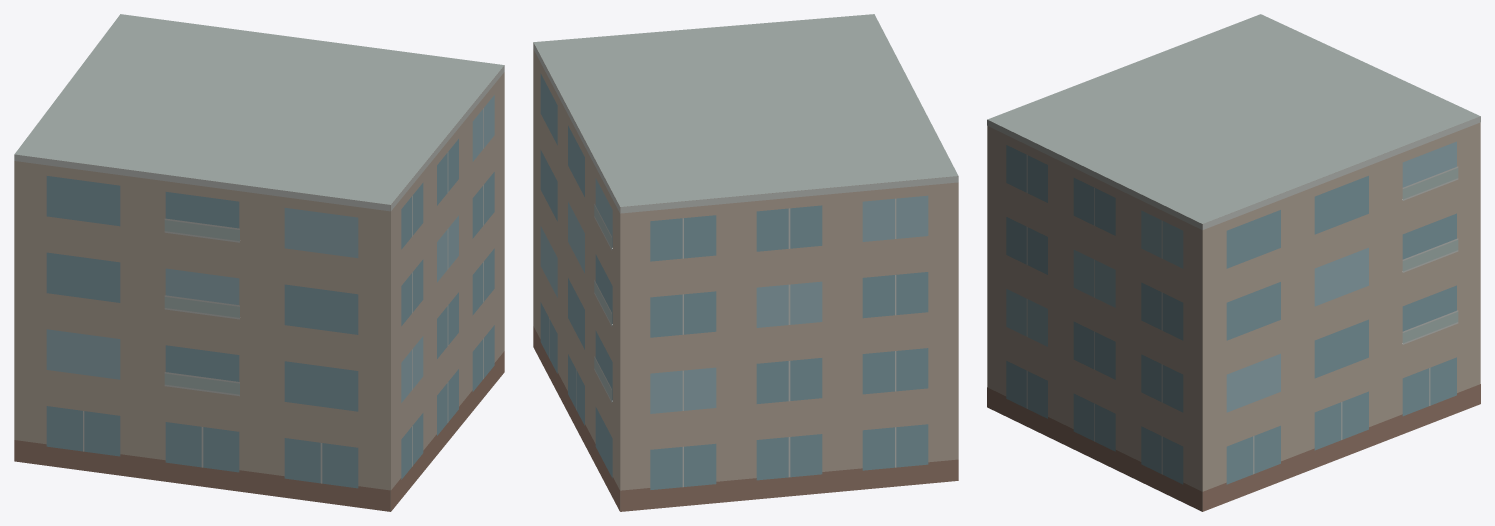
The model's file is survey-upis-32724242.glb.
The picture shows the model from 3 angles, left to right: view 1: azimuth 30°, elevation 25°; view 2: azimuth 150°, elevation 25°; view 3: azimuth 270°, elevation 25°; orthographic projection. The views are drawn at different scales.
Parts seen in each view (by area): view 1: survey-upis-32724242.tmp; view 2: survey-upis-32724242.tmp; view 3: survey-upis-32724242.tmp.
Part boxes in pixels (x1,y1,x2,y2): survey-upis-32724242.tmp: [14, 14, 504, 511]; survey-upis-32724242.tmp: [533, 14, 958, 511]; survey-upis-32724242.tmp: [987, 14, 1480, 511].
Size of the model in its own units: 18.02 by 11.5 by 17.88.
